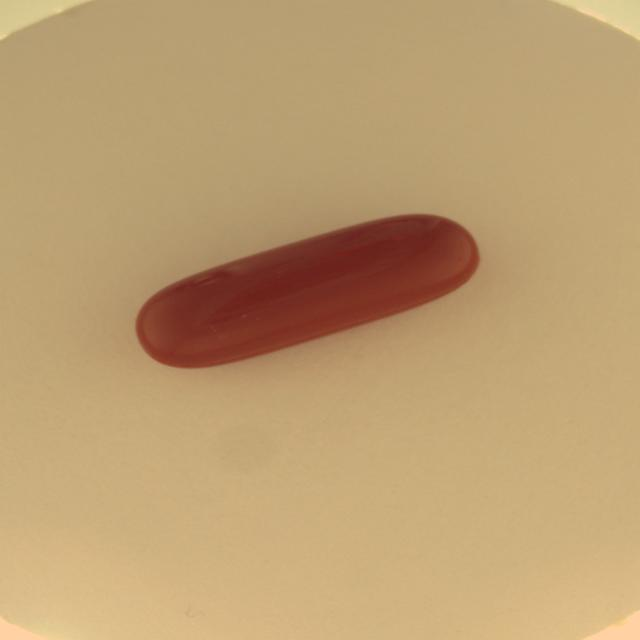Oval: (135, 213, 476, 370)
